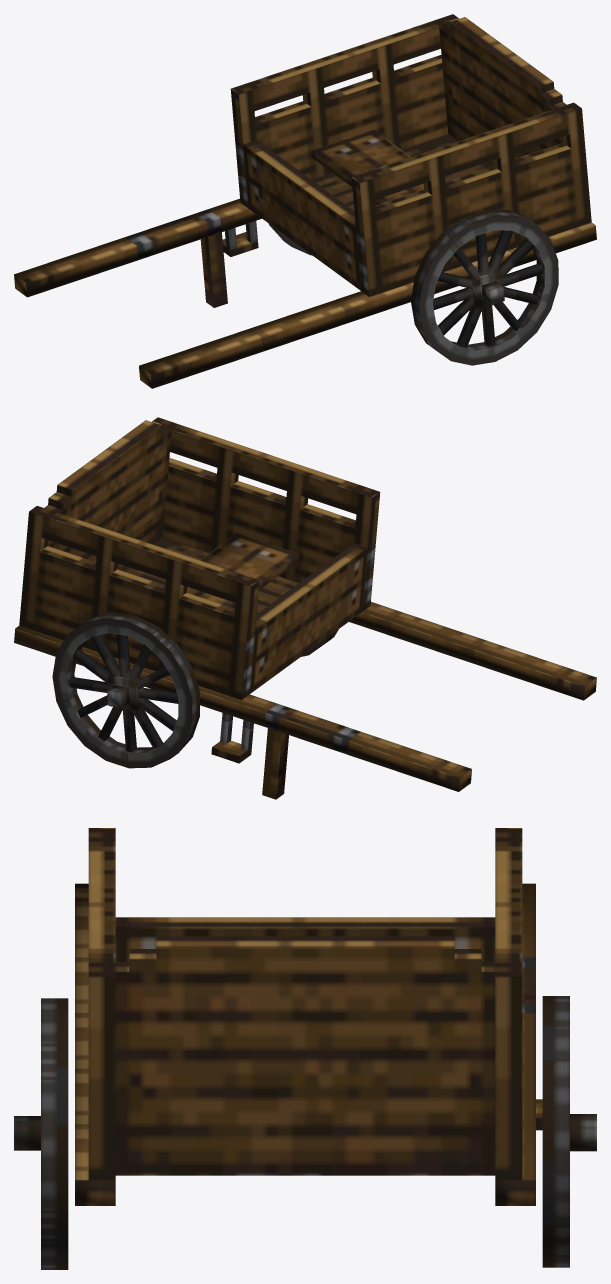
The model's file is ObjMD_Wagon_A.FBX.
The picture shows the model from 3 angles, top to bottom: view 1: azimuth 30°, elevation 25°; view 2: azimuth 150°, elevation 25°; view 3: azimuth 270°, elevation 25°; orthographic projection. The views are drawn at different scales.
Parts seen in each view (by area): view 1: ObjMD_Wagon_A; view 2: ObjMD_Wagon_A; view 3: ObjMD_Wagon_A.
Boxes of the visible parts, x1,y1,x2,y2 form: ObjMD_Wagon_A: (14, 14, 596, 388); ObjMD_Wagon_A: (14, 417, 596, 799); ObjMD_Wagon_A: (14, 828, 596, 1269).
Bounding box in the file's own units: 400 × 207 × 269.
